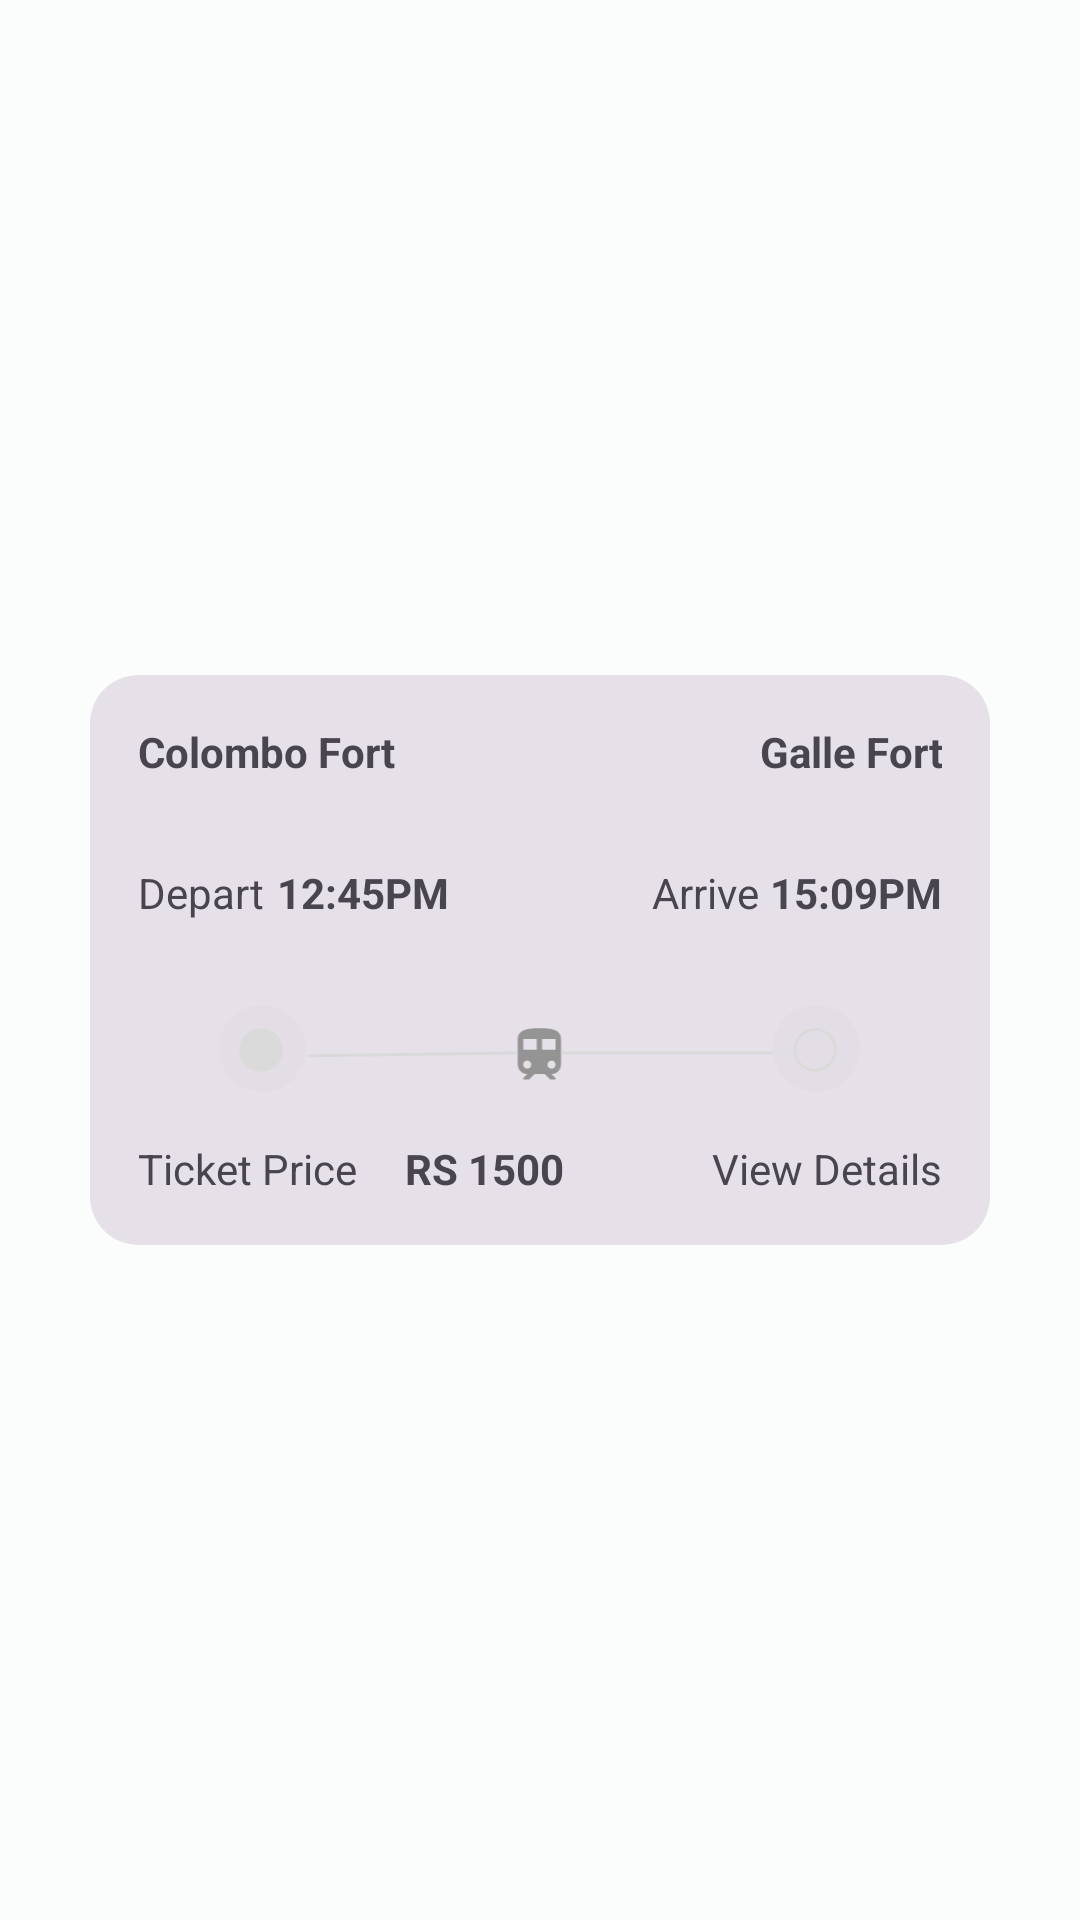

Point at icon controls on the screen. Image size 1080×1920, points as [x,y].
train mark: [539,1054]
